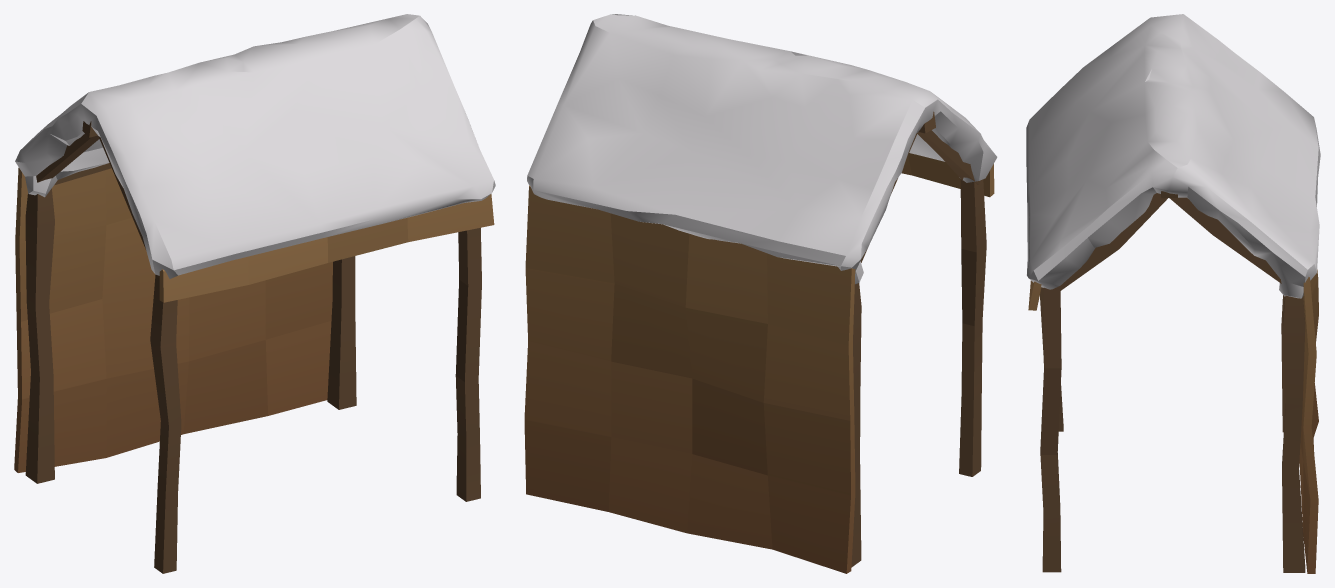
Rendered from TentSnowy_1.fbx.
3 renders of one model, left to right at view 1: azimuth 30°, elevation 25°; view 2: azimuth 150°, elevation 25°; view 3: azimuth 270°, elevation 25°, orthographic. The views are drawn at different scales.
Visible parts, largest first — view 1: TentSnowy_1; view 2: TentSnowy_1; view 3: TentSnowy_1.
Boxes of the visible parts, x1=… form: TentSnowy_1: x1=14, y1=14, x2=495, y2=573; TentSnowy_1: x1=524, y1=14, x2=997, y2=573; TentSnowy_1: x1=1026, y1=14, x2=1320, y2=573.
Bounding box in the file's own units: 204 × 245 × 158.
